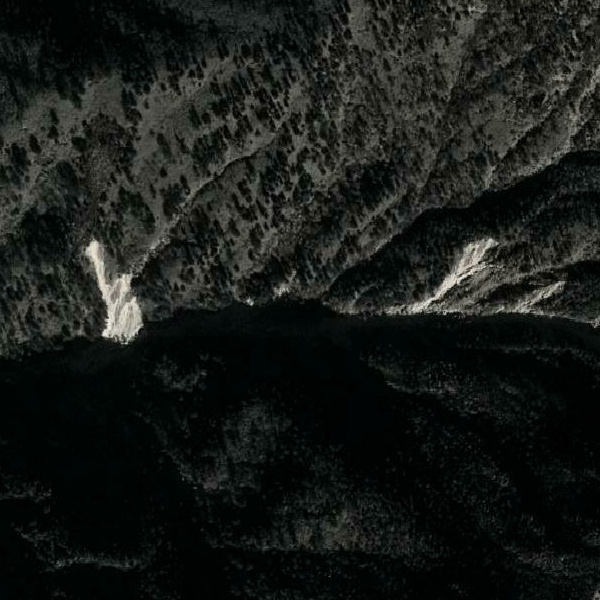slope: (390, 235, 505, 317), (81, 239, 146, 345)
